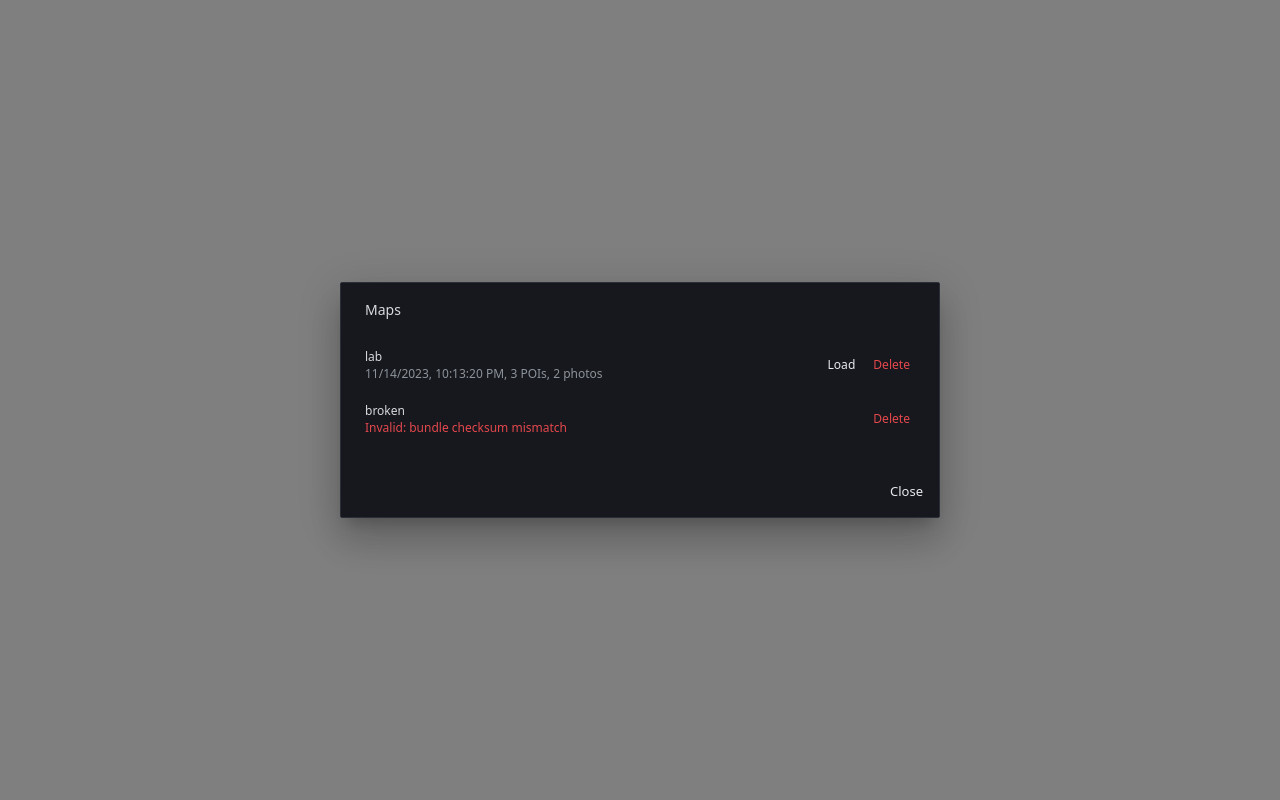
Test: MapsDialog load and delete › shows the delete result message from map_manager as is
The image size is (1280, 800).
Click the button with aria-label "Delete lab": {"x": 892, "y": 365} [868,349,915,381]
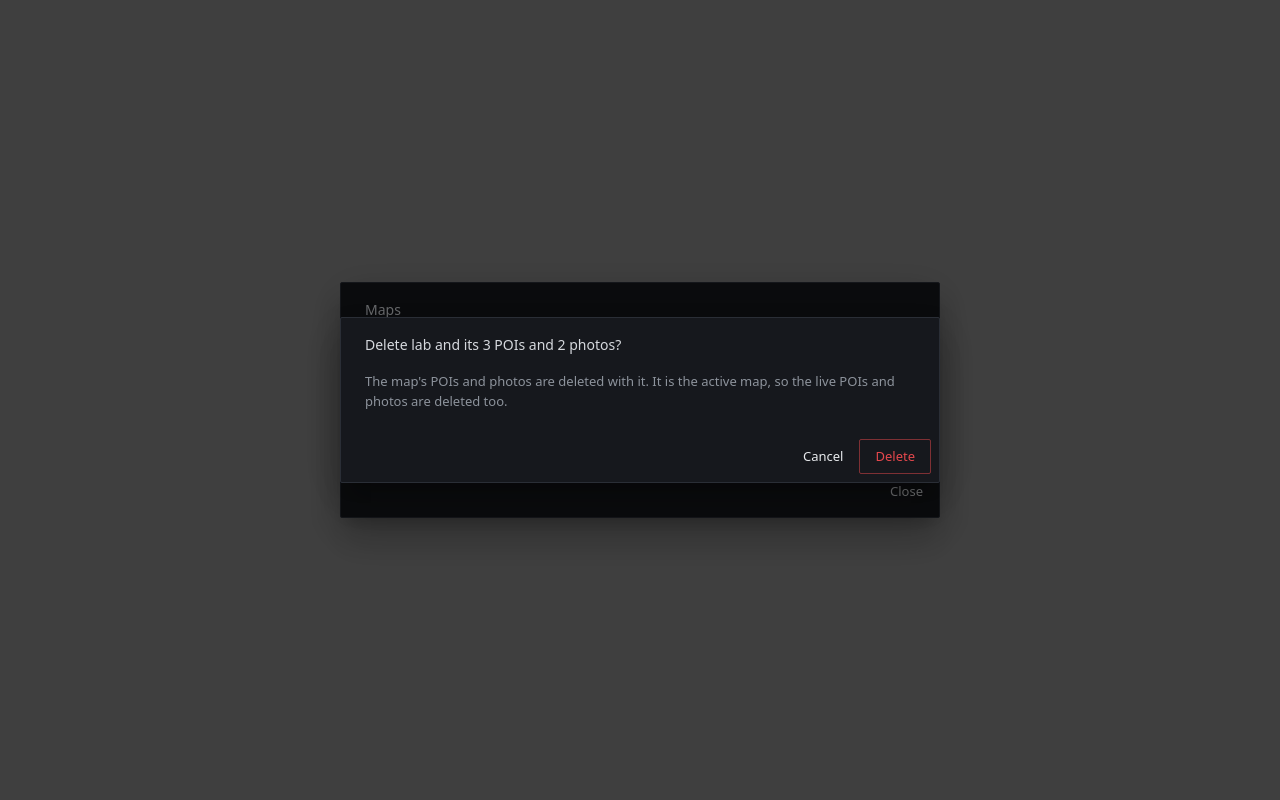
Click the button "Delete": {"x": 895, "y": 457} [860,439,931,474]
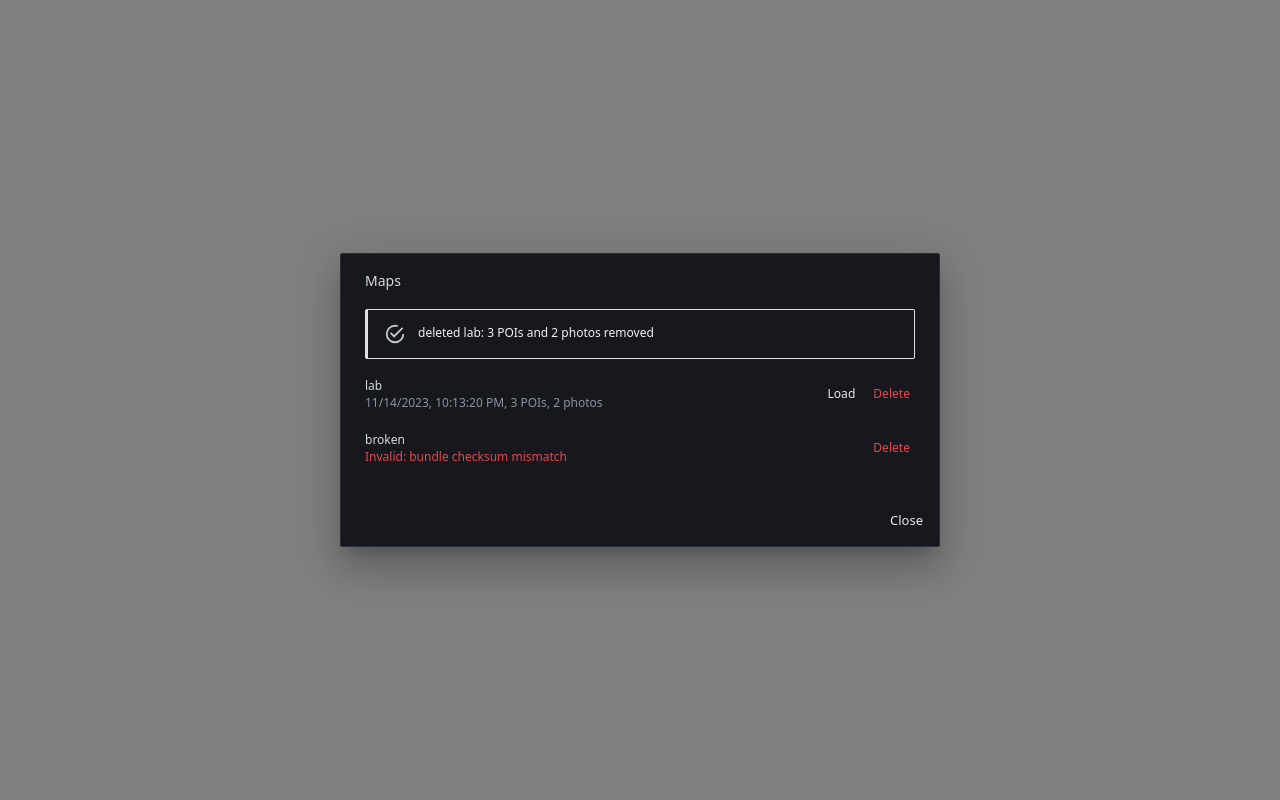
Now the text "deleted lab: 3 POIs and 2 photos removed" is shown, box [418,324,654,340]
